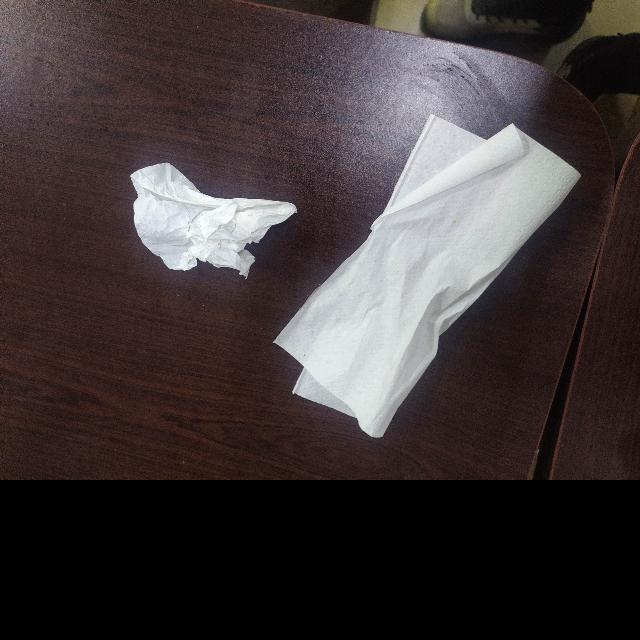kitchen paper: (273, 109, 585, 440), (115, 145, 304, 293)
